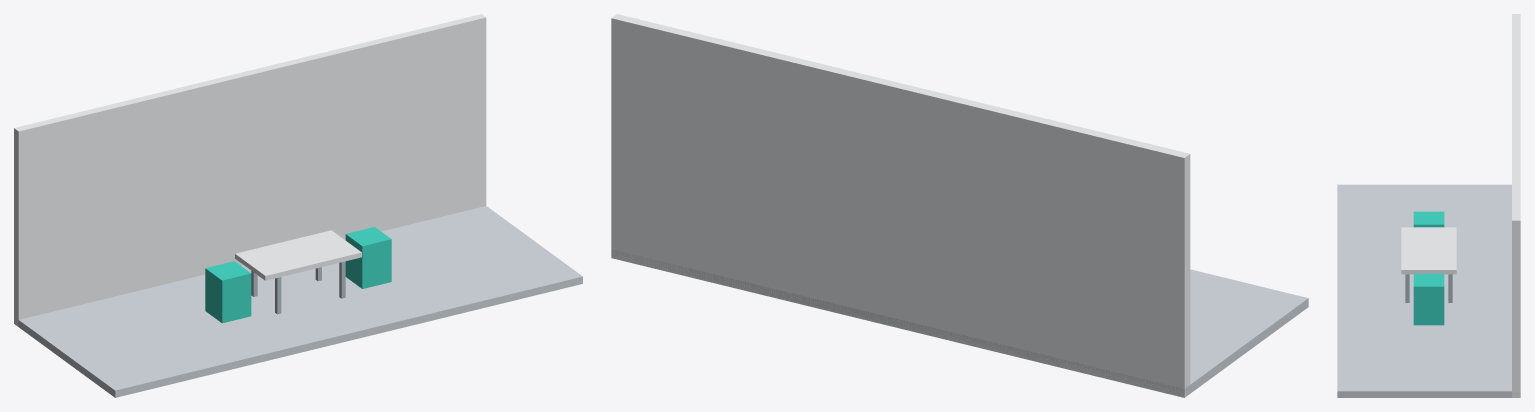
The picture shows the model from 3 angles, left to right: view 1: azimuth 30°, elevation 25°; view 2: azimuth 150°, elevation 25°; view 3: azimuth 270°, elevation 25°; orthographic projection. The views are drawn at different scales.
Parts seen in each view (by area): view 1: Exhibition Booth Concept; view 2: Exhibition Booth Concept; view 3: Exhibition Booth Concept.
Part boxes in pixels (left/top/right/bottom): Exhibition Booth Concept: left=14, top=14, right=582, bottom=397; Exhibition Booth Concept: left=611, top=14, right=1308, bottom=397; Exhibition Booth Concept: left=1337, top=14, right=1520, bottom=397.
Size of the model in its own units: 8 by 3.2 by 3.
